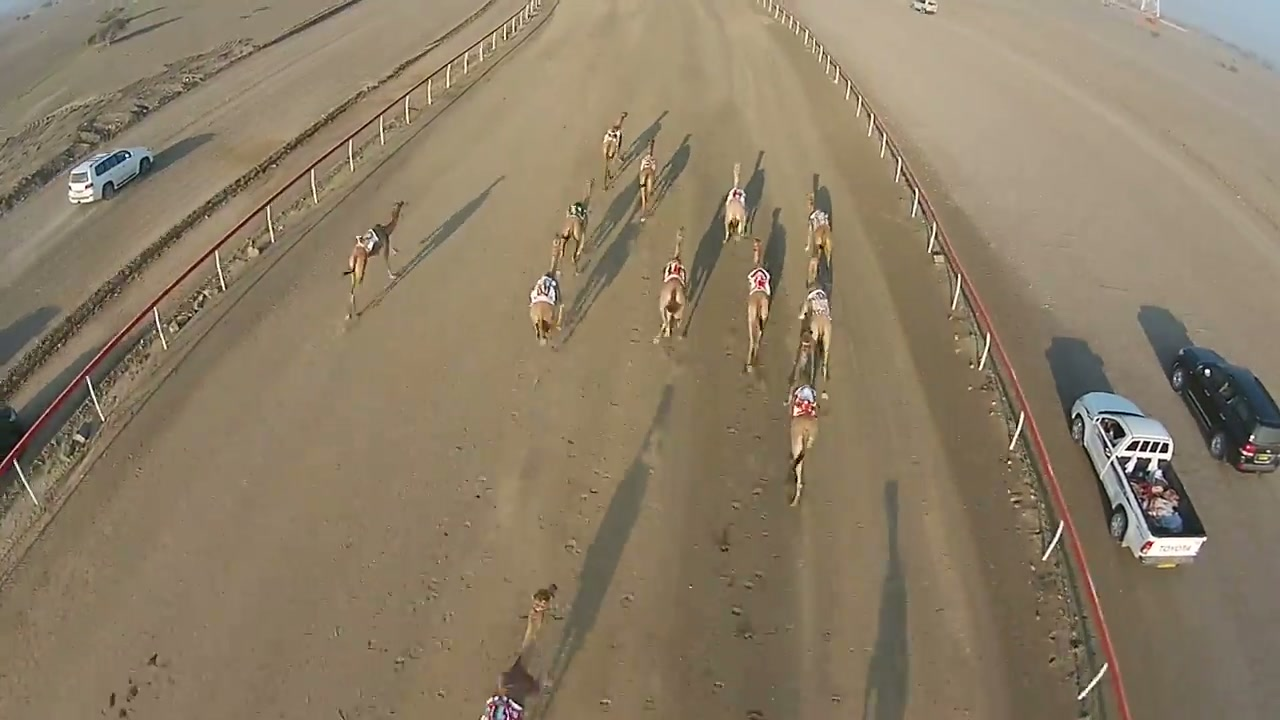animal_foot_print: (335, 306, 808, 719)
